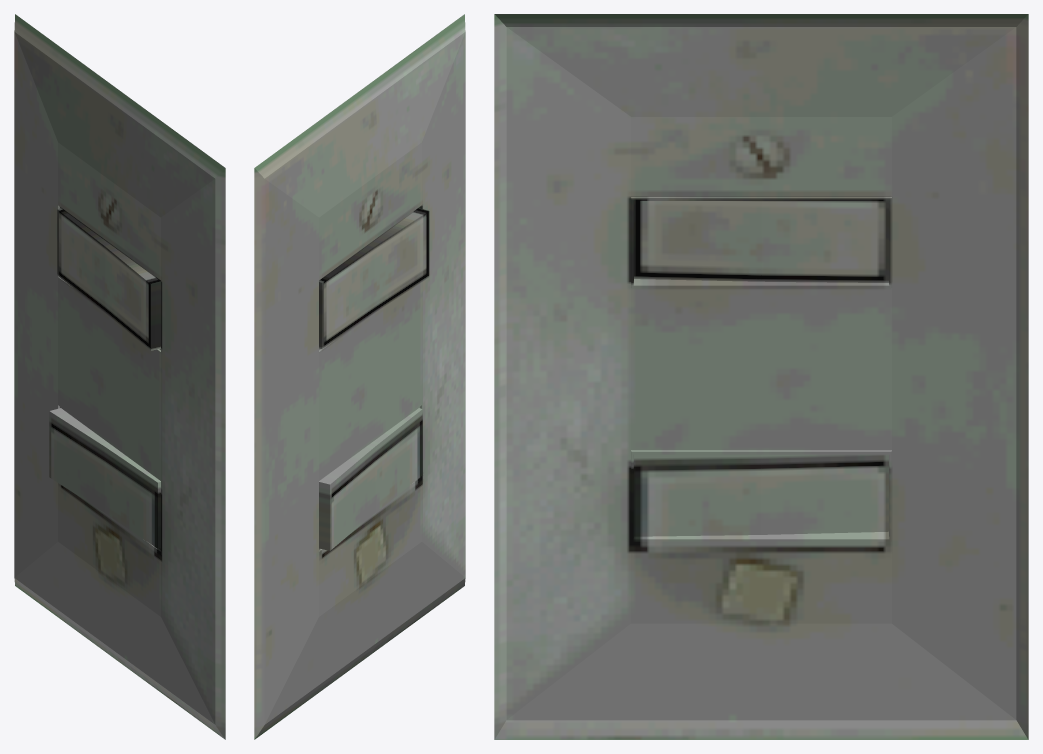
The model's file is lightswicht_Rooftop.fbx.
3 views of the same model, side by side, from view 1: azimuth 30°, elevation 25°; view 2: azimuth 150°, elevation 25°; view 3: azimuth 270°, elevation 25° (orthographic). The views are drawn at different scales.
Visible parts, largest first — view 1: lightswicht_Rooftop; view 2: lightswicht_Rooftop; view 3: lightswicht_Rooftop.
Boxes of the visible parts, x1,y1,x2,y2 form: lightswicht_Rooftop: (14, 14, 225, 739); lightswicht_Rooftop: (254, 14, 465, 739); lightswicht_Rooftop: (494, 14, 1028, 739).
Bounding box in the file's own units: 0.00456 × 0.12 × 0.08.
